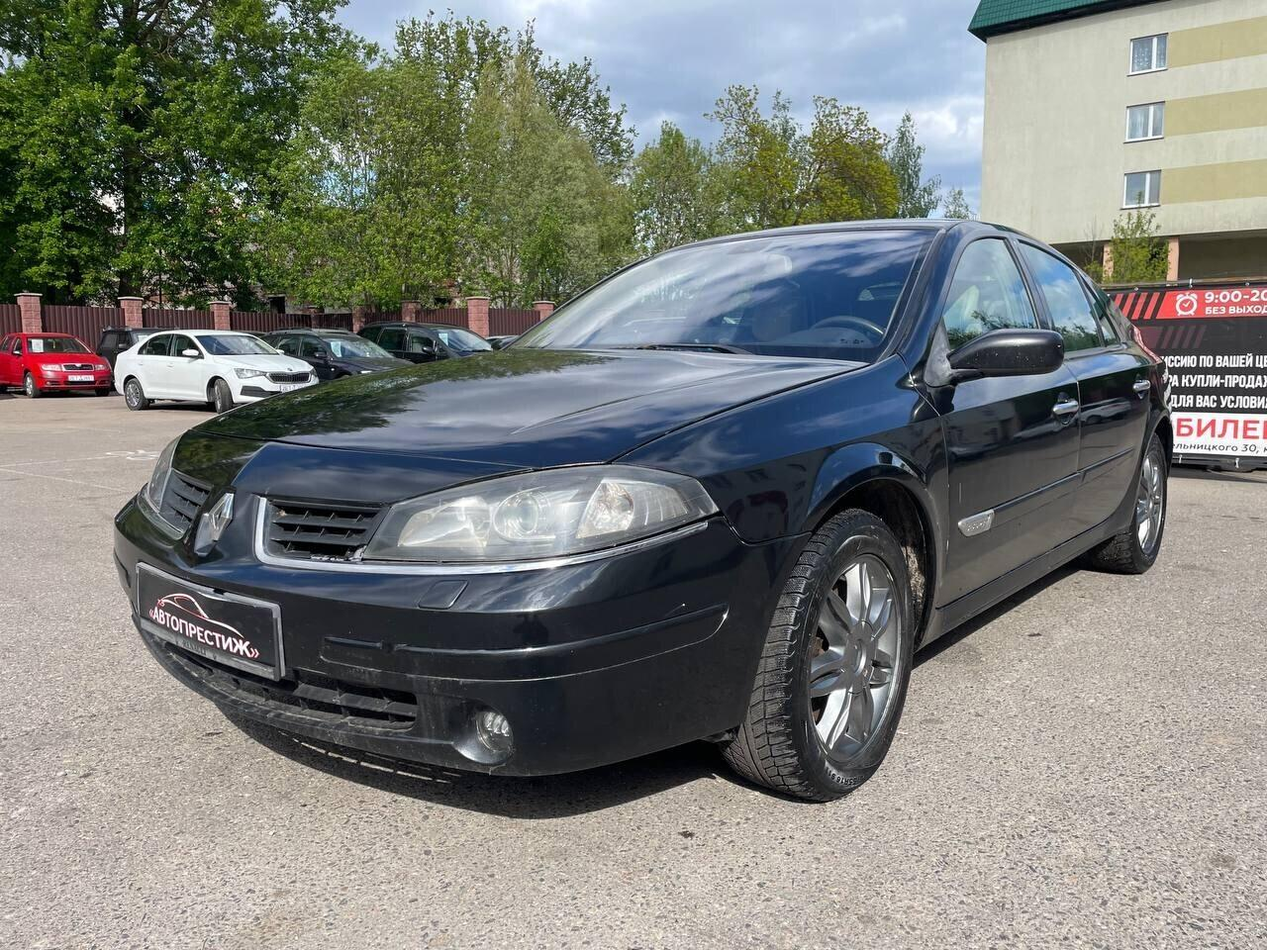Laguna_2005-2007: (108, 203, 1182, 808)
